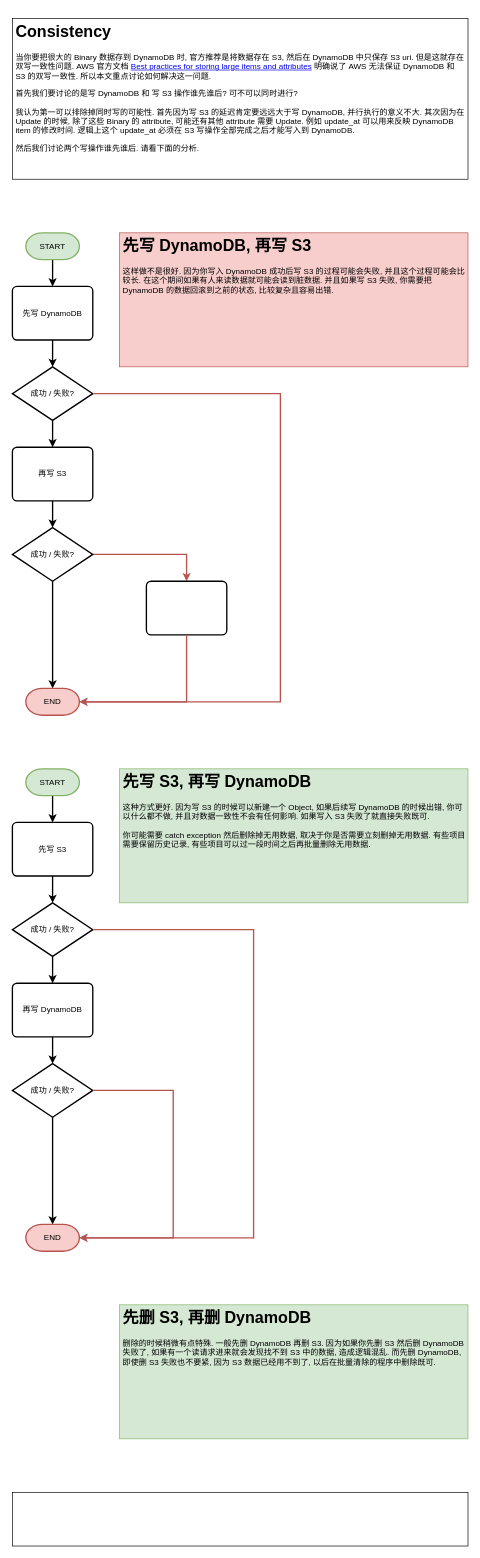
This 480x1558 diagram has some shape labels left out. Here are the shapes that lost their labels. From the top down, the centre of each, then its label:
At [186,607]: "删除 / 更新 DynamoDB".
At [240,1519]: "Conclusion Create / Update 时先写 S3, 再写 DynamoDB, Delete 时先删 DynamoDB 再删 S3".
